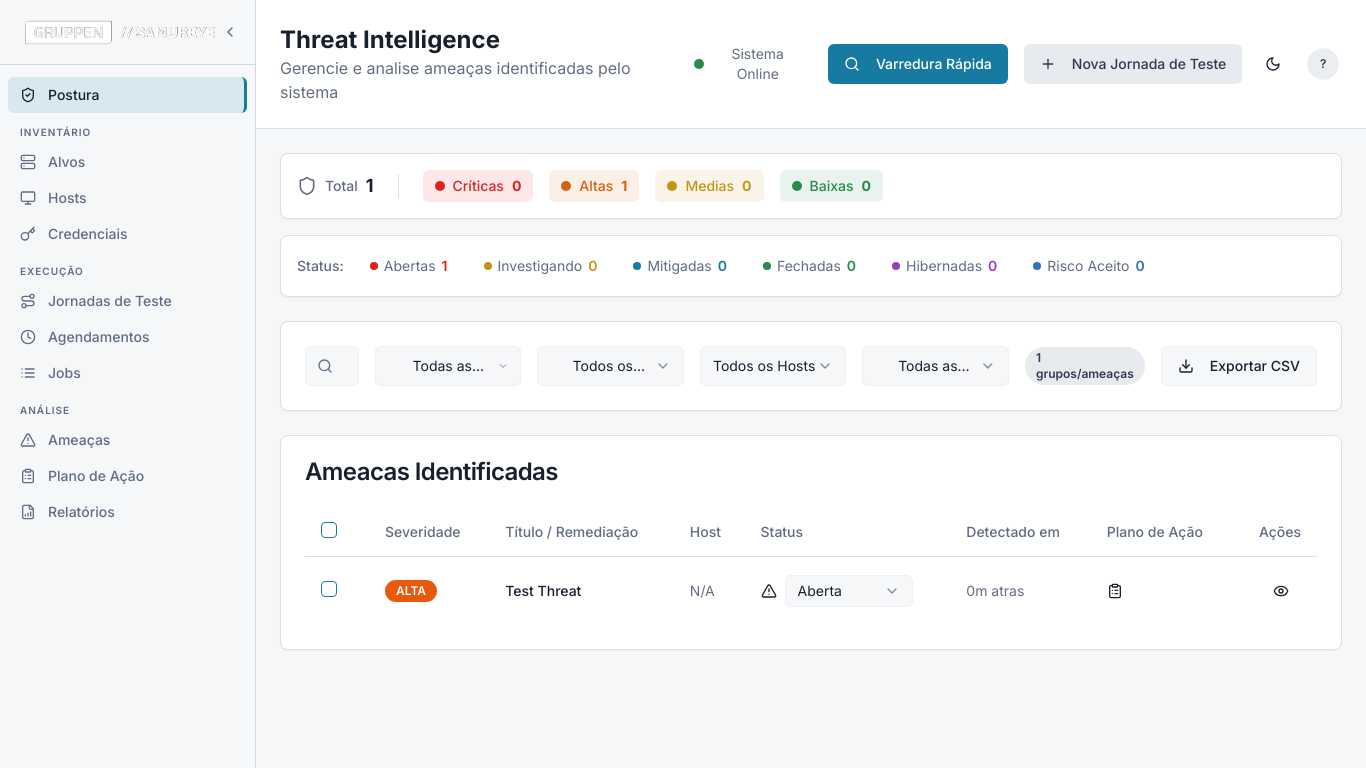
Scenario: UI-03 — Findings OWASP Source Filter › OWASP badge text uses info.codigo (e.g. "API3:2023") not raw owaspCategory key
Click the dropdown with test id "select-source-filter". click: (936, 366)
box: [862,346,1009,386]
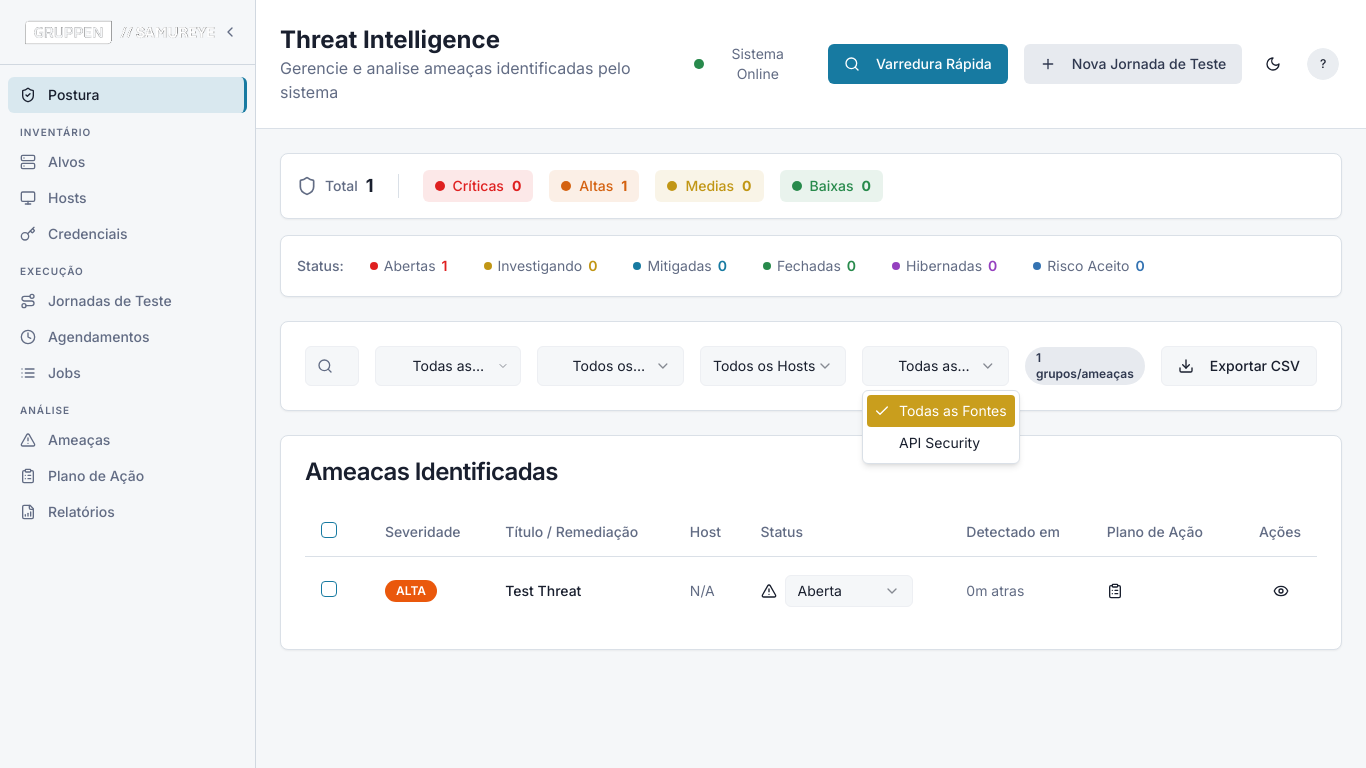
Click the option "API Security". click: (940, 442)
box: [899,434,980,451]
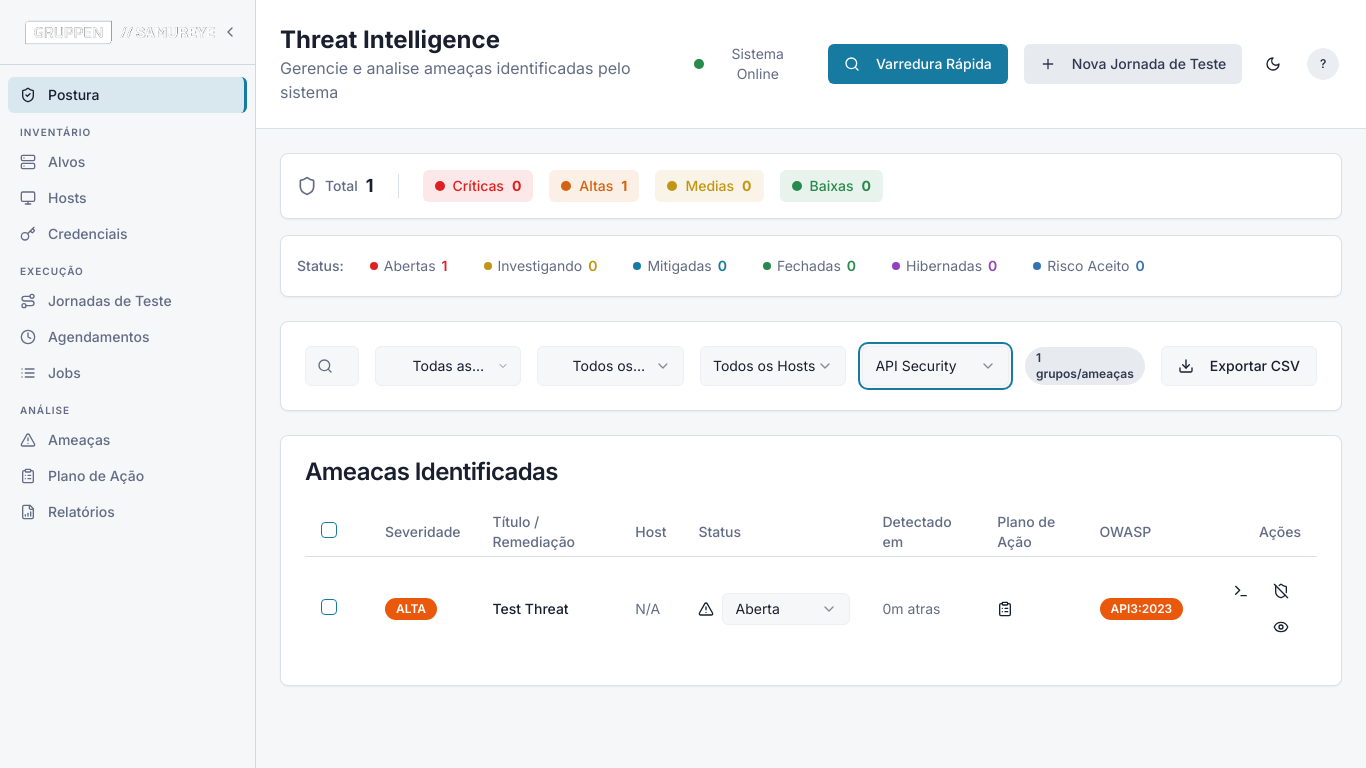
Now the text "API3:2023" is shown, box [1100,598,1183,620]
Now the text with test id "owasp-badge-API3:2023" reads "API3:2023", box [1110,600,1172,616]
